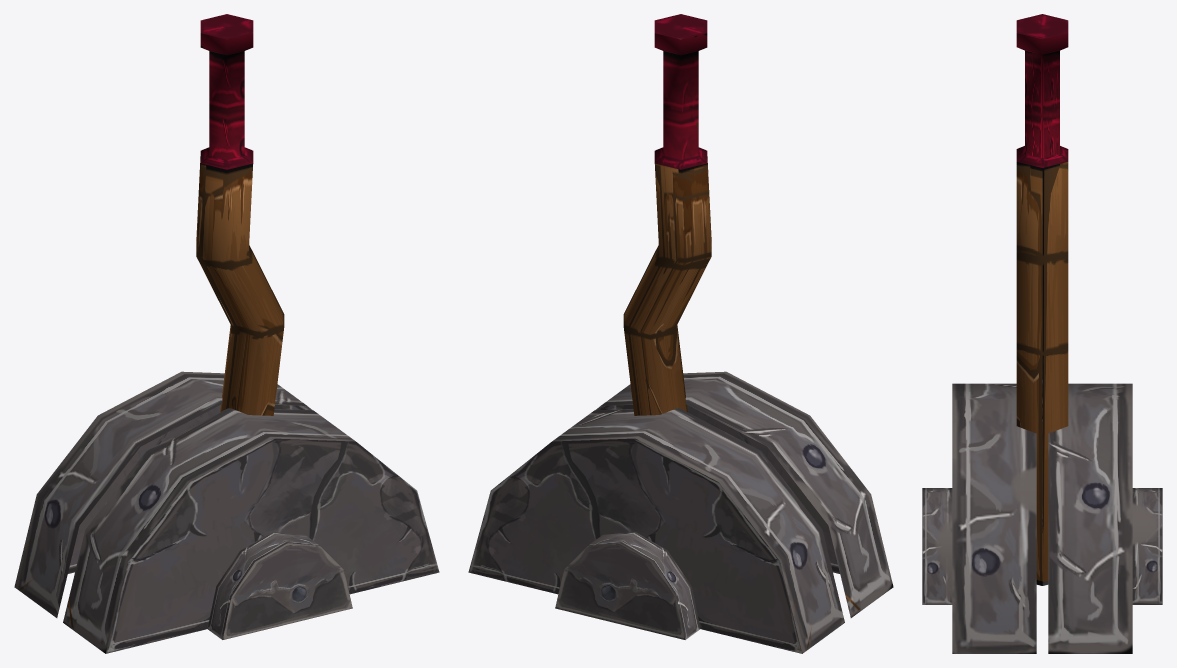
File: lever.fbx
3 views of the same model, side by side, from view 1: azimuth 30°, elevation 25°; view 2: azimuth 150°, elevation 25°; view 3: azimuth 270°, elevation 25° (orthographic).
Parts seen in each view (by area): view 1: Cylinder_base, Lever; view 2: Cylinder_base, Lever; view 3: Cylinder_base, Lever.
Boxes of the visible parts, left/top/right/bottom form: Cylinder_base: left=14, top=371, right=439, bottom=653; Lever: left=196, top=14, right=284, bottom=415; Cylinder_base: left=468, top=371, right=893, bottom=653; Lever: left=623, top=14, right=711, bottom=415; Cylinder_base: left=922, top=383, right=1162, bottom=653; Lever: left=1016, top=14, right=1068, bottom=585.
Bounding box in the file's own units: 100 × 158 × 63.02.
Materials: 1 (1 with a texture image).
